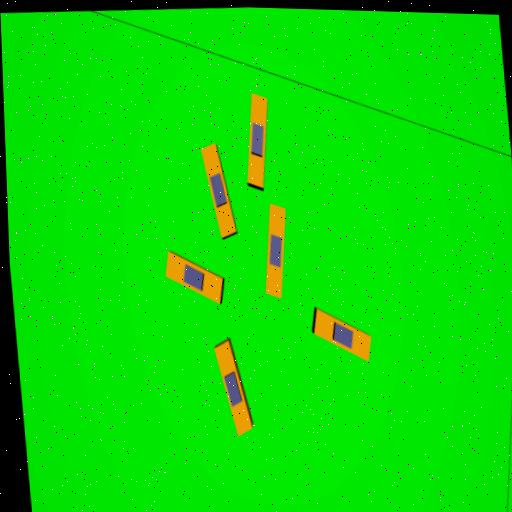objects: (306, 309, 380, 363), (213, 340, 253, 436), (158, 252, 231, 304), (200, 143, 237, 239), (265, 202, 286, 299), (247, 94, 268, 188)
